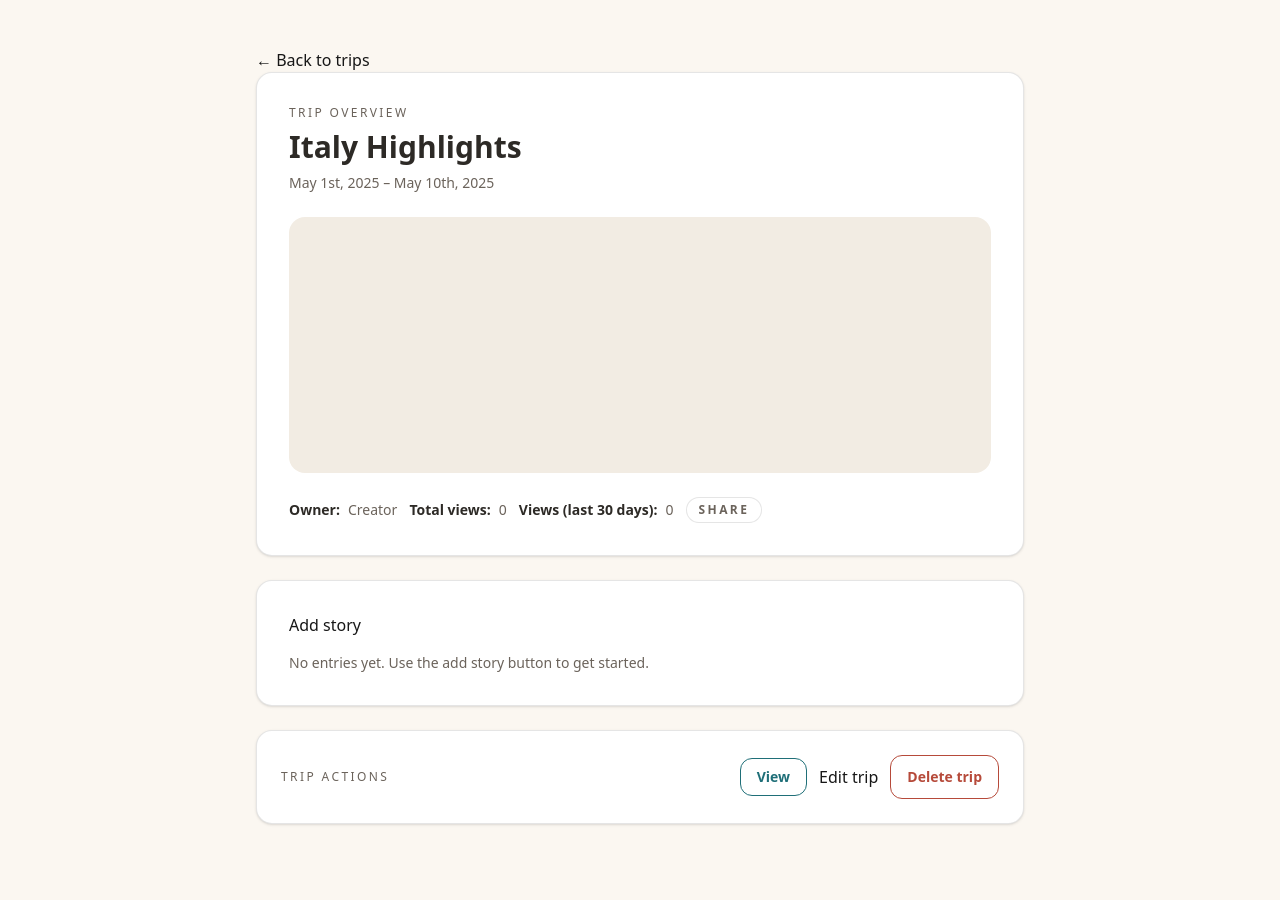
Scenario: TripDetail share panel › revokes a share link from the Share Link panel
Expected: the text "Trip actions View Edit trip Delete trip" is shown, [256, 730, 1024, 824]
Expected: the button "revoke share link" is not shown
What coordinates should you click on to do the following:
click the button with aria-label "share trip"
I would click on:
 (724, 510)
Its box is [686, 497, 762, 523].
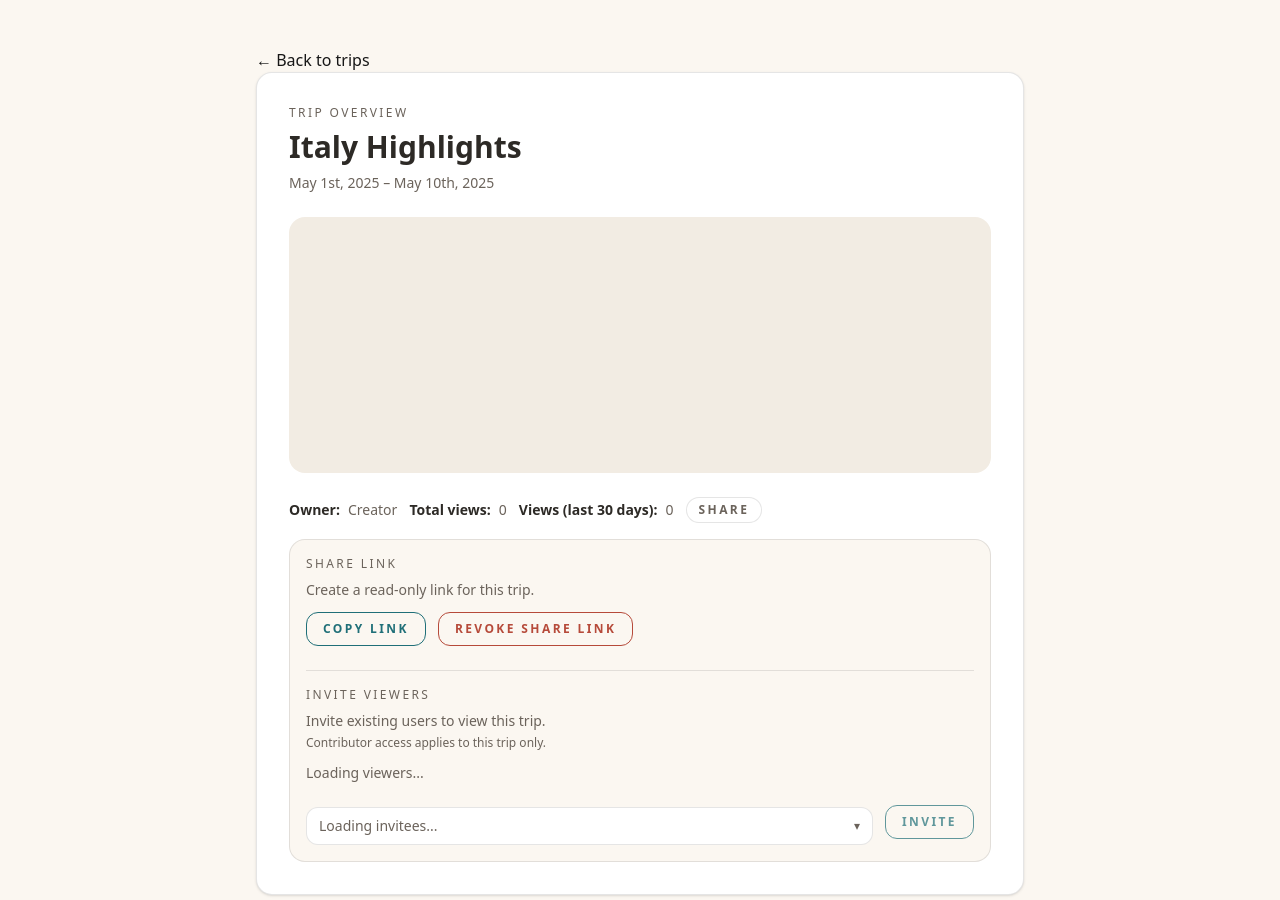
What coordinates should you click on to do the following:
click the button "Revoke share link"
I would click on:
 (536, 629)
Its box is [438, 612, 633, 646].
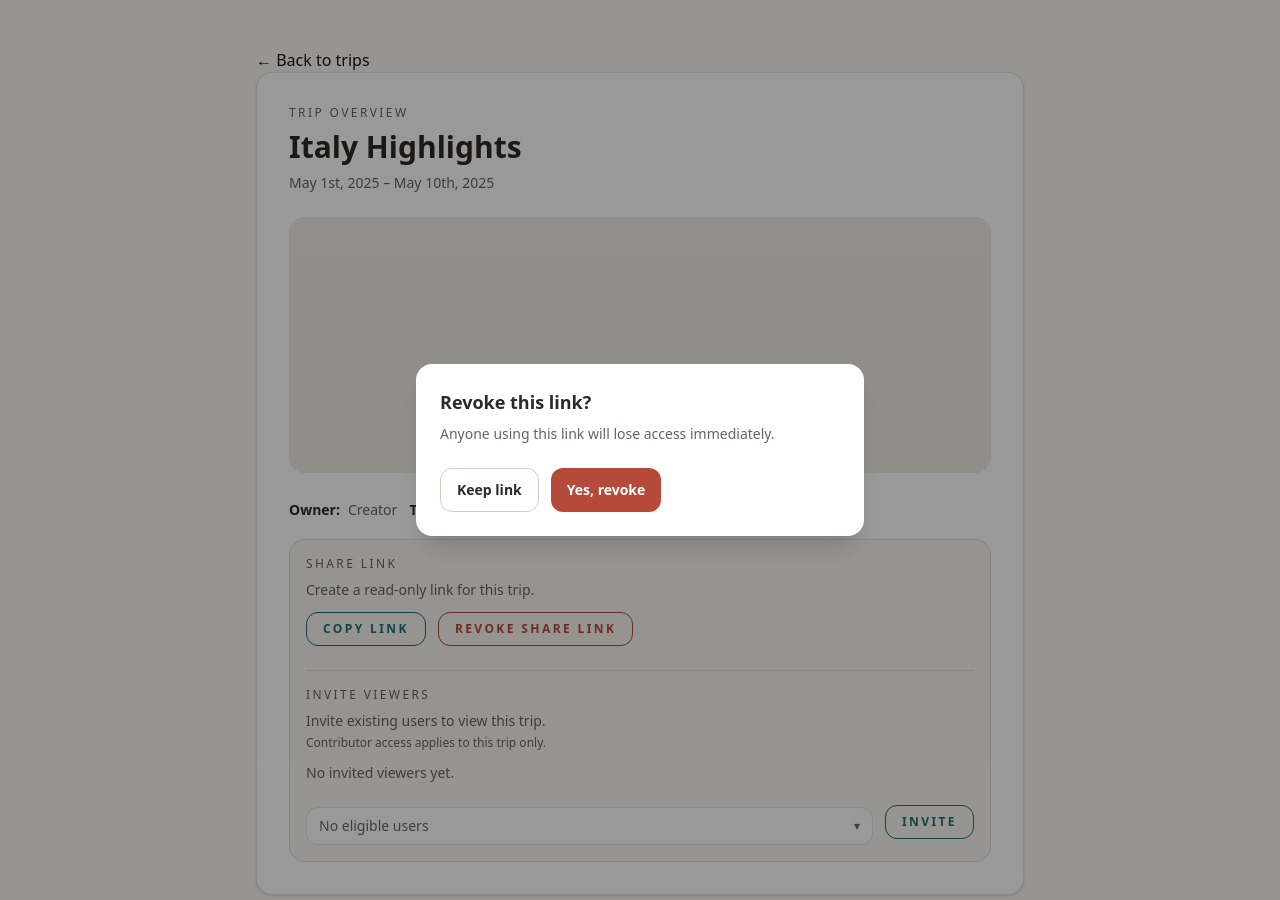
What coordinates should you click on to do the following:
click the button "Yes, revoke"
I would click on:
 (606, 490)
Its box is [551, 468, 661, 512].
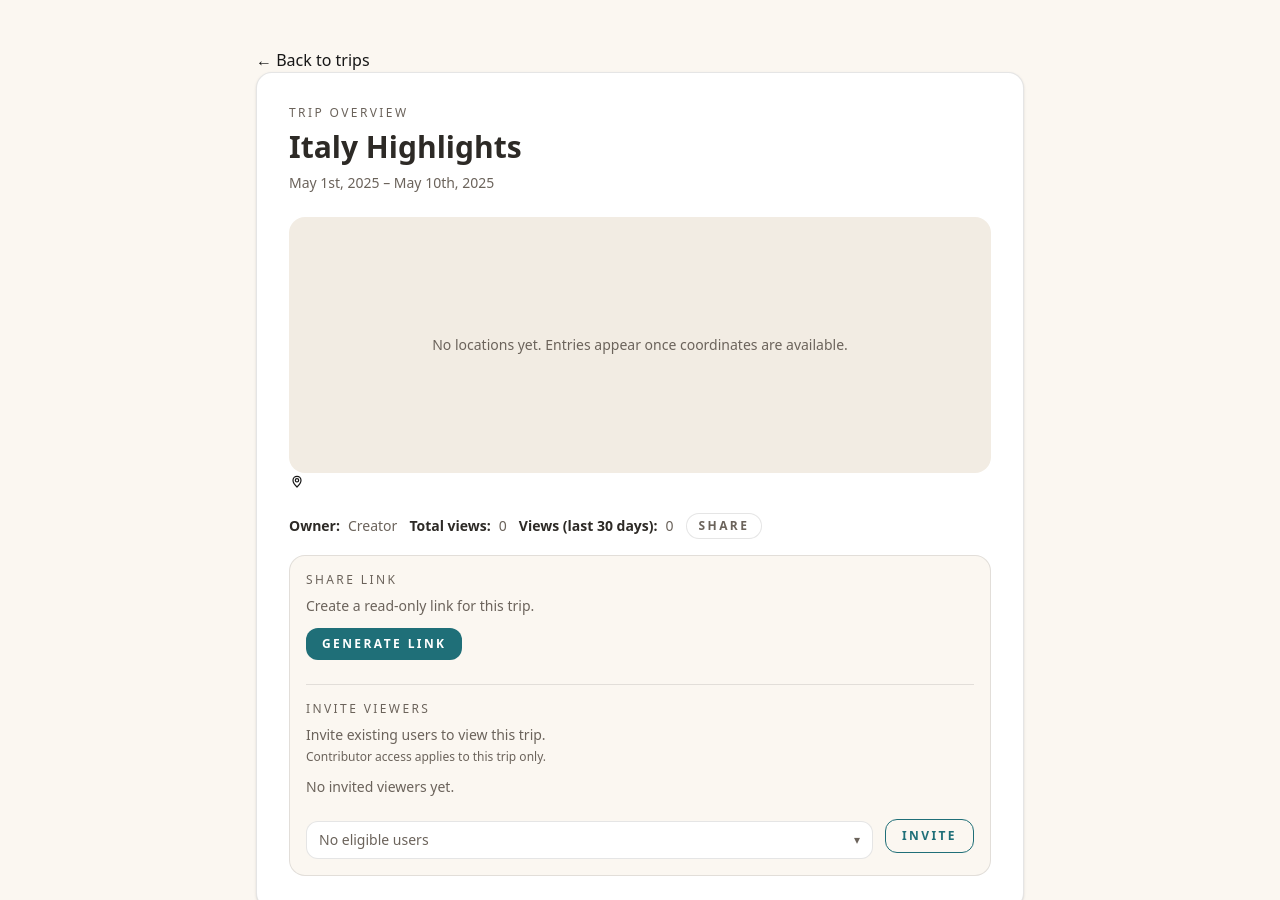
Result: the button "Generate link" is shown at [306, 628, 462, 660]
